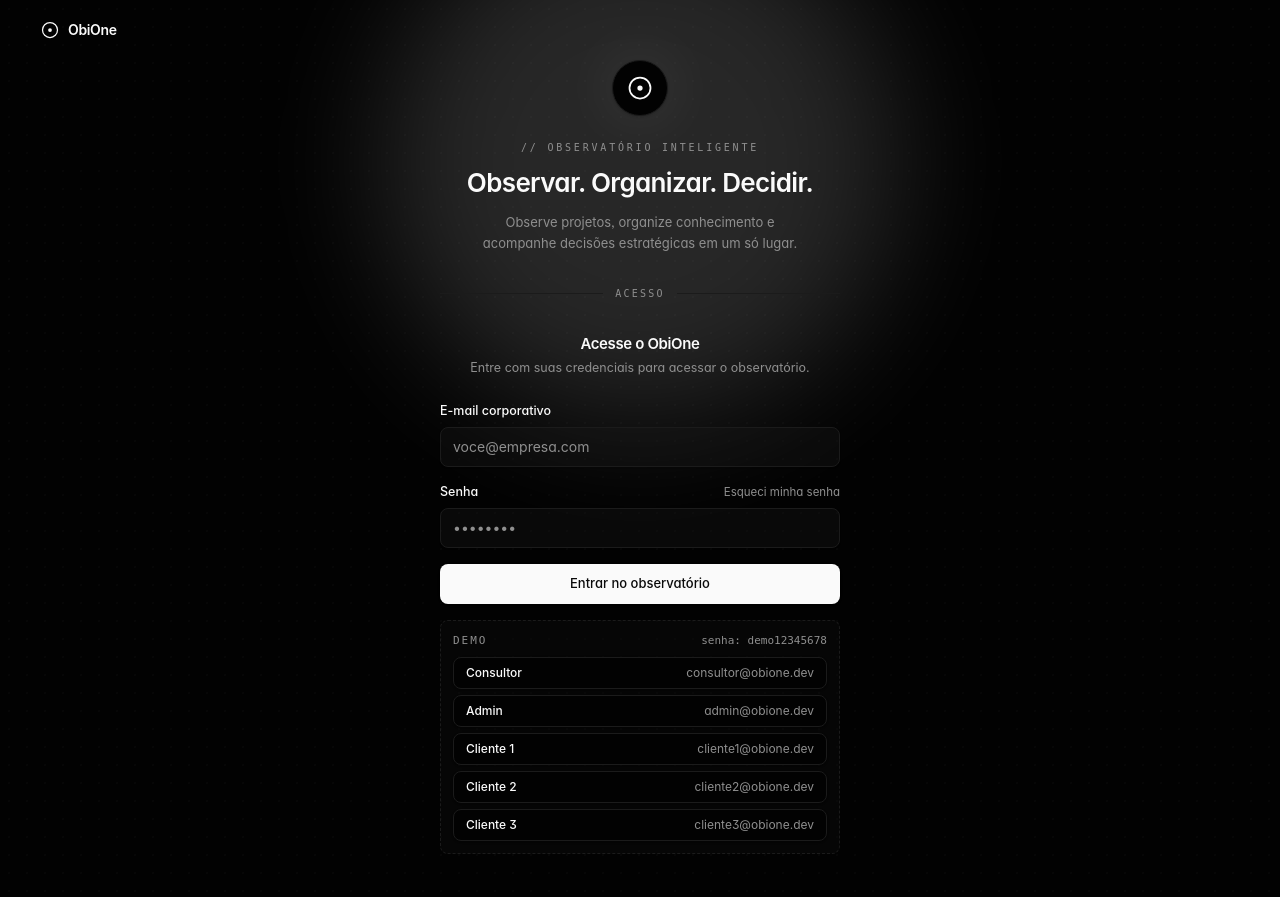
LoginPage › rejects invalid email
This screenshot has width=1280, height=897.
In the field labelled "E-mail corporativo": x=640, y=447 [440,427,840,467], type "not-an-email"
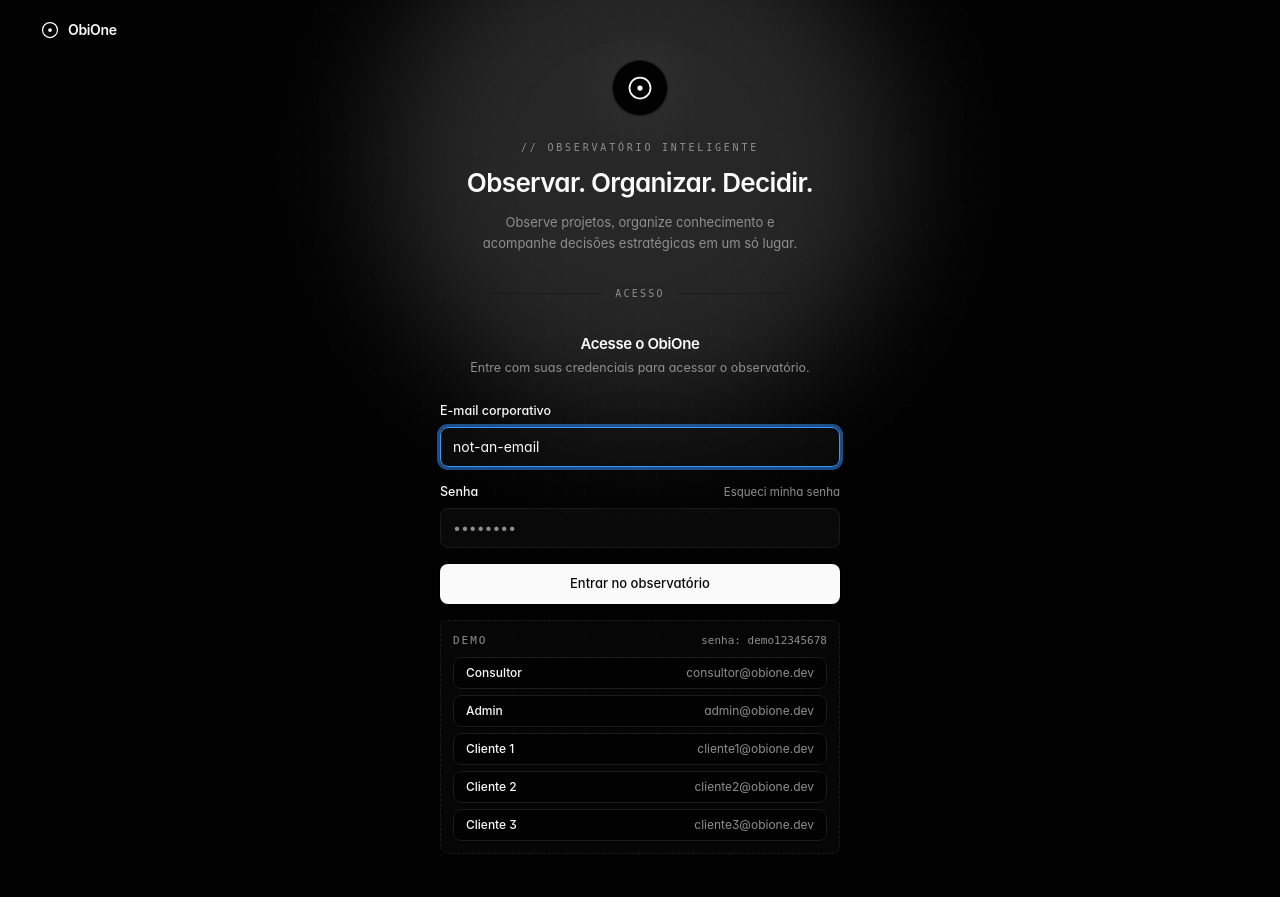
In the password field labelled "Senha": x=640, y=528 [440,508,840,548], type "pwd12345678"
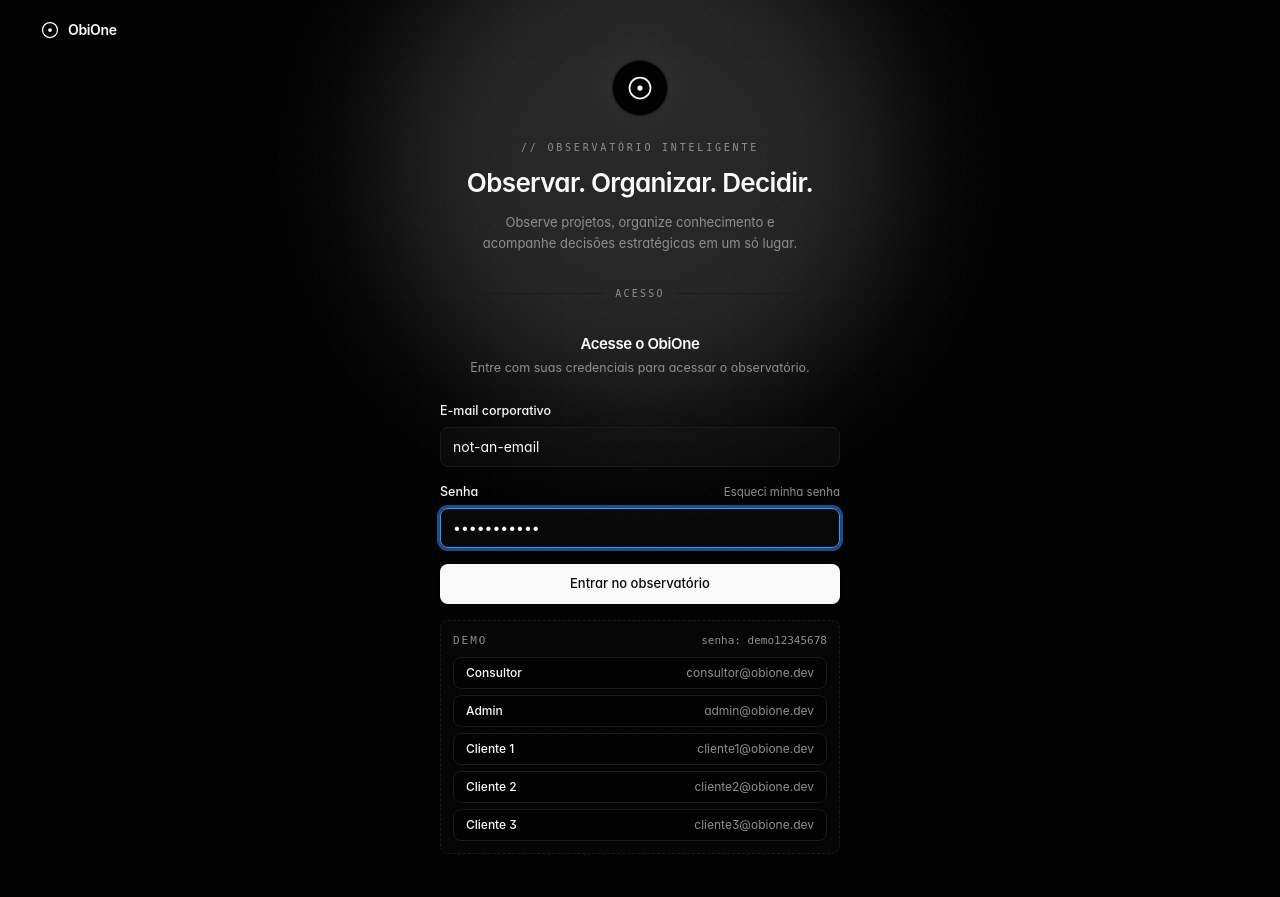
Click the button "Entrar no observatório": x=640, y=584 [440,564,840,604]
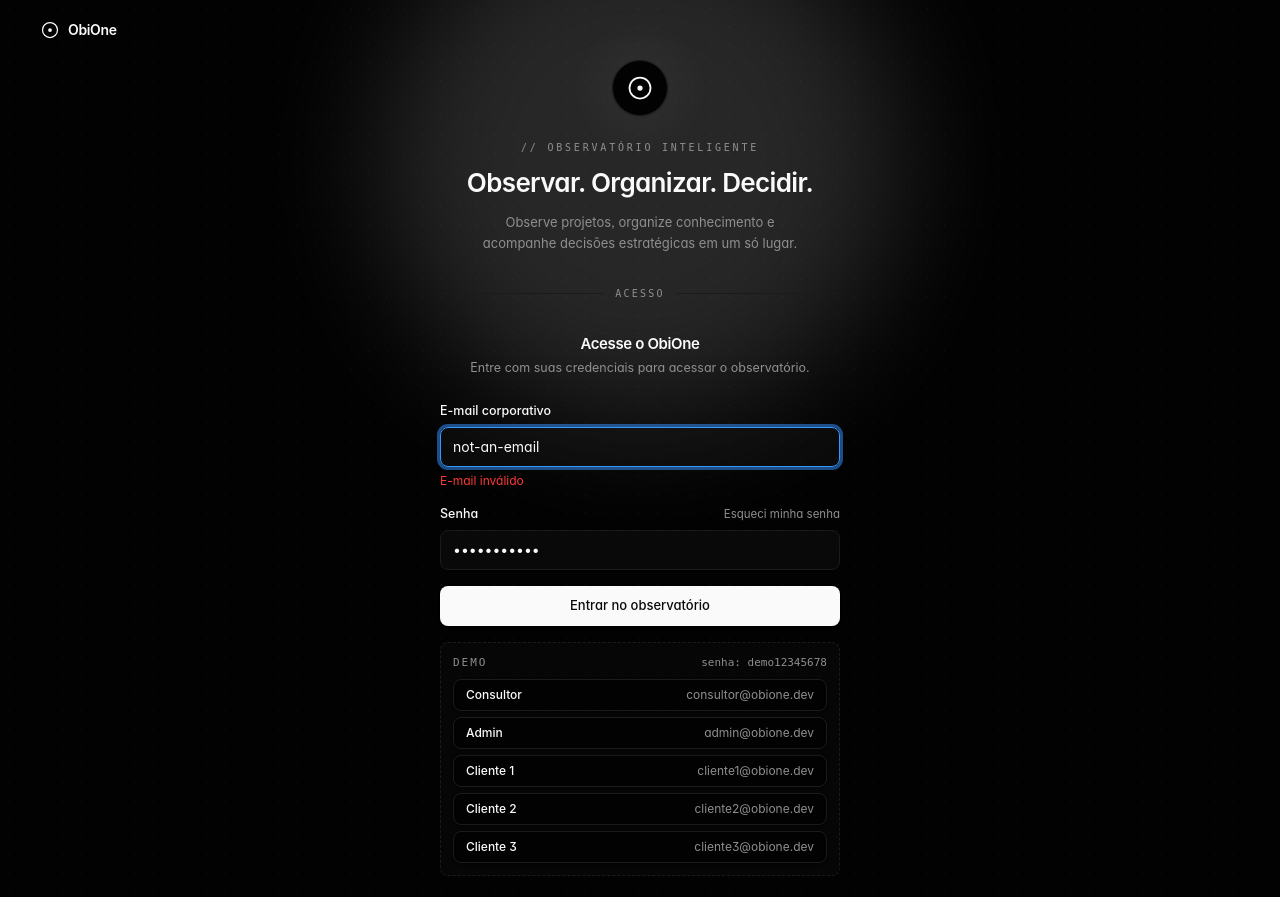
Result: the text "E-mail inválido" is shown at [440,473,524,488]
